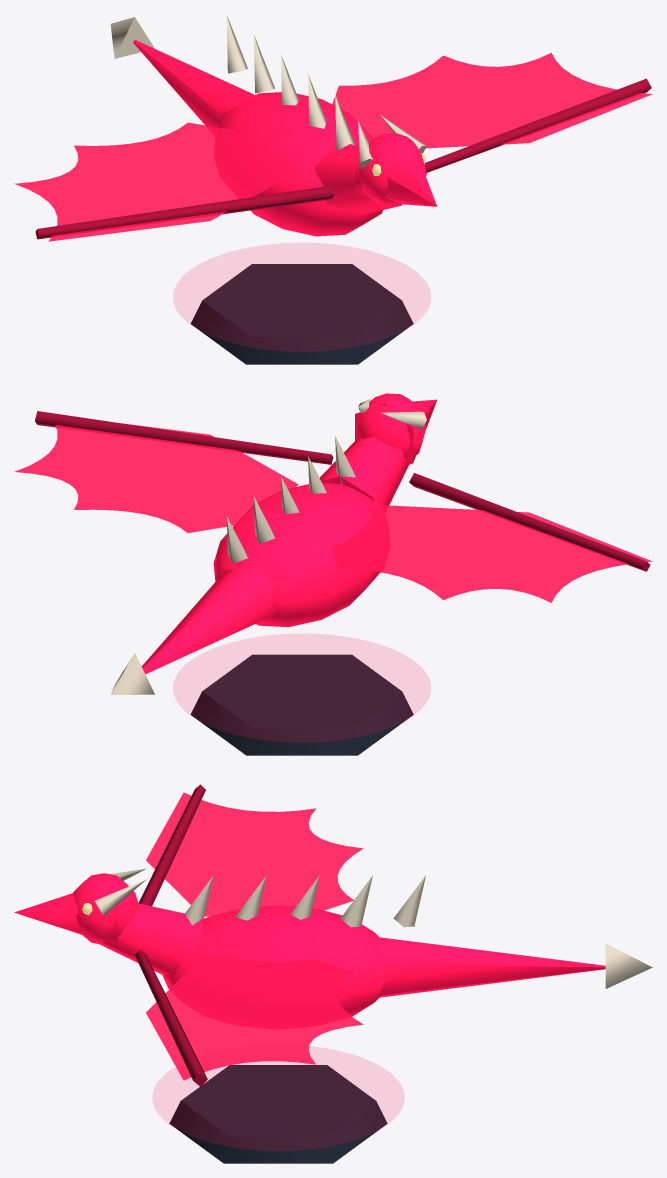
File: 4-imperador-escarlate.glb
3 renders of one model, top to bottom at view 1: azimuth 30°, elevation 25°; view 2: azimuth 150°, elevation 25°; view 3: azimuth 270°, elevation 25°, orthographic. The views are drawn at different scales.
Size of the model in its own units: 6.01 by 2.4 by 5.56.
